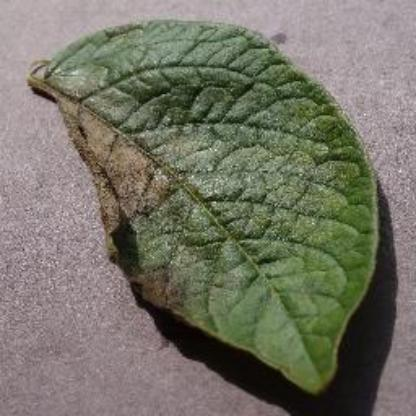Late-Blight: (26, 19, 386, 398)
